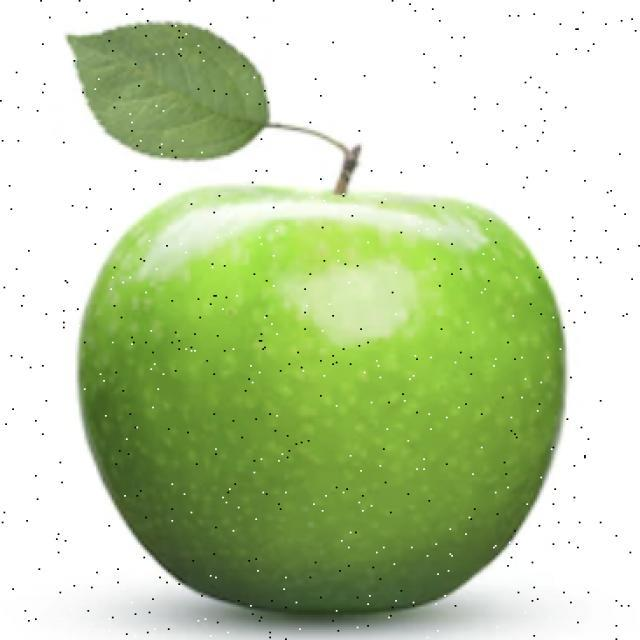Fresh Apple: (93, 177, 565, 638)
